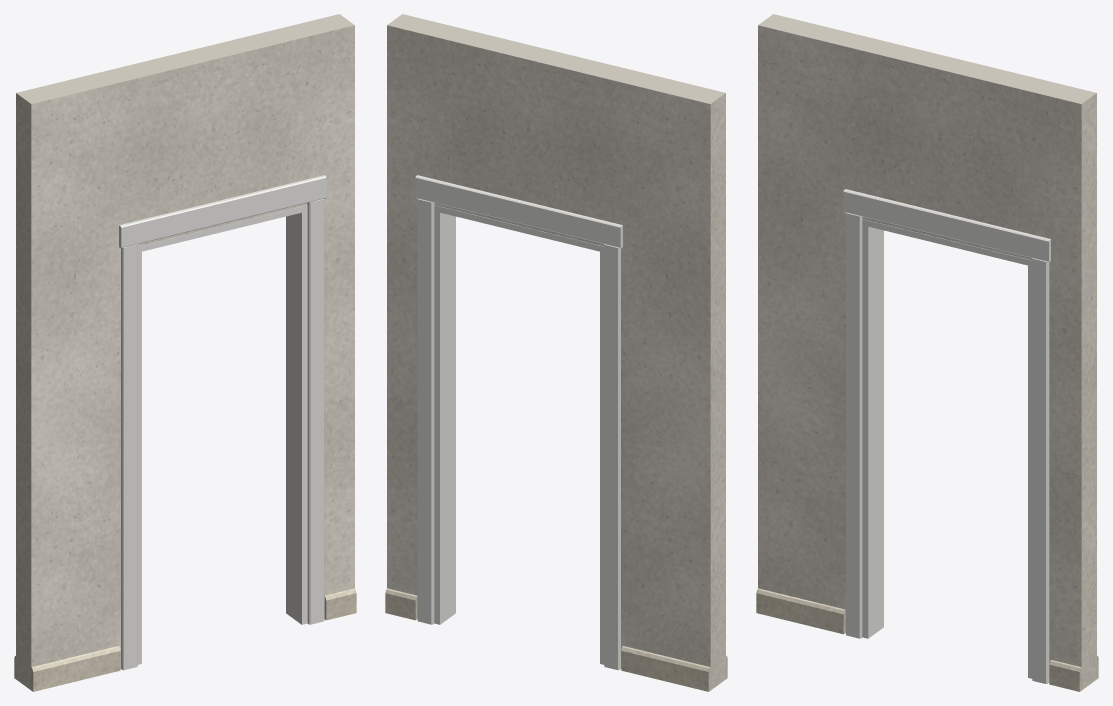
Rendered from iw_end_doorway.glb.
The picture shows the model from 3 angles, left to right: view 1: azimuth 30°, elevation 25°; view 2: azimuth 150°, elevation 25°; view 3: azimuth 330°, elevation 25°; orthographic projection.
Visible parts, largest first — view 1: iw_end_doorway_plaster, iw_end_doorway_frame, iw_end_doorway_trim; view 2: iw_end_doorway_plaster, iw_end_doorway_frame, iw_end_doorway_trim; view 3: iw_end_doorway_plaster, iw_end_doorway_frame, iw_end_doorway_trim.
Boxes of the visible parts, bbox=[...] form: iw_end_doorway_plaster: bbox=[16, 14, 354, 690]; iw_end_doorway_frame: bbox=[119, 175, 326, 670]; iw_end_doorway_trim: bbox=[14, 588, 356, 691]; iw_end_doorway_plaster: bbox=[387, 14, 725, 690]; iw_end_doorway_frame: bbox=[415, 175, 622, 670]; iw_end_doorway_trim: bbox=[385, 588, 727, 691]; iw_end_doorway_plaster: bbox=[758, 14, 1096, 690]; iw_end_doorway_frame: bbox=[843, 189, 1050, 683]; iw_end_doorway_trim: bbox=[756, 588, 1098, 691].
Size of the model in its own units: 1.7 by 2.94 by 0.18.
3 materials, 2 textured.
